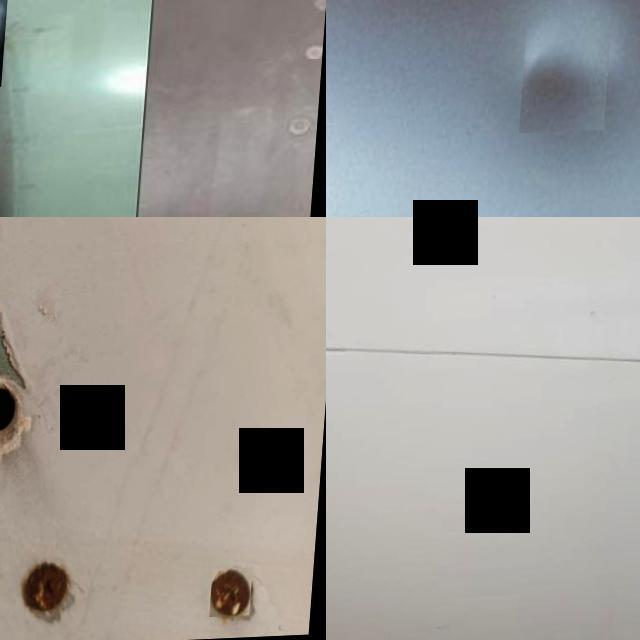Dent: (528, 21, 614, 134)
Missing_Fastener: (28, 564, 78, 616), (219, 573, 262, 622), (0, 389, 25, 440)
